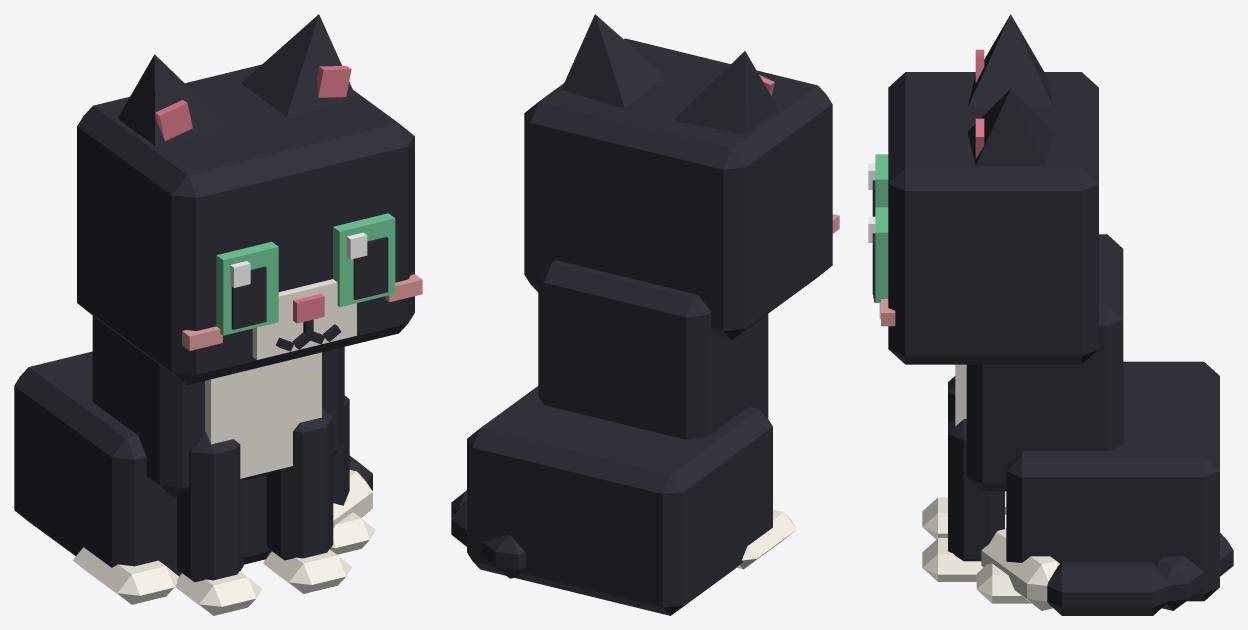
The model's file is CatCafe_Cat_Tuxedo_Sit.glb.
3 renders of one model, left to right at view 1: azimuth 30°, elevation 25°; view 2: azimuth 150°, elevation 25°; view 3: azimuth 270°, elevation 25°, orthographic. The views are drawn at different scales.
Parts seen in each view (by area): view 1: CatCafe_Cat_Tuxedo_Sit_Head, CatCafe_Cat_Tuxedo_Sit_Body, CatCafe_Cat_Tuxedo_Sit_LegF2, CatCafe_Cat_Tuxedo_Sit_LegF1, CatCafe_Cat_Tuxedo_Sit_EarL, CatCafe_Cat_Tuxedo_Sit_EarR, CatCafe_Cat_Tuxedo_Sit_Eye2, CatCafe_Cat_Tuxedo_Sit_Eye1, CatCafe_Cat_Tuxedo_Sit_Tail; view 2: CatCafe_Cat_Tuxedo_Sit_Body, CatCafe_Cat_Tuxedo_Sit_Head, CatCafe_Cat_Tuxedo_Sit_EarL, CatCafe_Cat_Tuxedo_Sit_EarR, CatCafe_Cat_Tuxedo_Sit_Tail; view 3: CatCafe_Cat_Tuxedo_Sit_Head, CatCafe_Cat_Tuxedo_Sit_Body, CatCafe_Cat_Tuxedo_Sit_Tail, CatCafe_Cat_Tuxedo_Sit_LegF1, CatCafe_Cat_Tuxedo_Sit_EarL, CatCafe_Cat_Tuxedo_Sit_EarR, CatCafe_Cat_Tuxedo_Sit_Eye1, CatCafe_Cat_Tuxedo_Sit_LegF2, CatCafe_Cat_Tuxedo_Sit_Eye2.
Part boxes in pixels (box(x1,y1,x2,y2)): CatCafe_Cat_Tuxedo_Sit_Head: box(77, 64, 422, 384); CatCafe_Cat_Tuxedo_Sit_Body: box(14, 316, 375, 604); CatCafe_Cat_Tuxedo_Sit_LegF2: box(175, 432, 262, 615); CatCafe_Cat_Tuxedo_Sit_LegF1: box(263, 408, 351, 593); CatCafe_Cat_Tuxedo_Sit_EarL: box(241, 14, 355, 116); CatCafe_Cat_Tuxedo_Sit_EarR: box(117, 54, 232, 145); CatCafe_Cat_Tuxedo_Sit_Eye2: box(216, 241, 278, 335); CatCafe_Cat_Tuxedo_Sit_Eye1: box(333, 213, 395, 306); CatCafe_Cat_Tuxedo_Sit_Tail: box(333, 456, 372, 527); CatCafe_Cat_Tuxedo_Sit_Body: box(467, 260, 796, 615); CatCafe_Cat_Tuxedo_Sit_Head: box(524, 38, 839, 340); CatCafe_Cat_Tuxedo_Sit_EarL: box(561, 14, 665, 107); CatCafe_Cat_Tuxedo_Sit_EarR: box(674, 51, 778, 134); CatCafe_Cat_Tuxedo_Sit_Tail: box(451, 490, 525, 578); CatCafe_Cat_Tuxedo_Sit_Head: box(873, 72, 1098, 364); CatCafe_Cat_Tuxedo_Sit_Body: box(955, 234, 1219, 603); CatCafe_Cat_Tuxedo_Sit_Tail: box(981, 529, 1233, 615); CatCafe_Cat_Tuxedo_Sit_LegF1: box(922, 417, 1004, 581); CatCafe_Cat_Tuxedo_Sit_EarL: box(968, 89, 1053, 165); CatCafe_Cat_Tuxedo_Sit_EarR: box(968, 14, 1053, 106); CatCafe_Cat_Tuxedo_Sit_Eye1: box(868, 207, 888, 302); CatCafe_Cat_Tuxedo_Sit_LegF2: box(922, 376, 955, 539); CatCafe_Cat_Tuxedo_Sit_Eye2: box(868, 154, 888, 216).
Bounding box in the file's own units: 1.05 × 1.85 × 1.22.
1 material, 1 textured.
